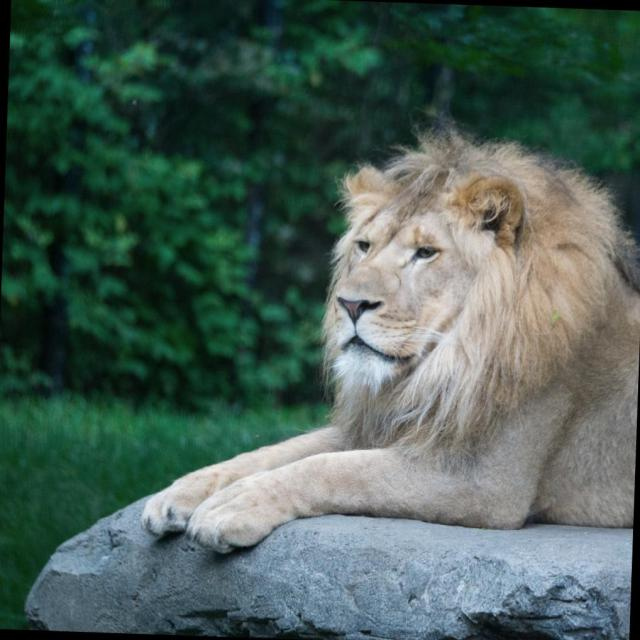Lion: (142, 104, 640, 572)
